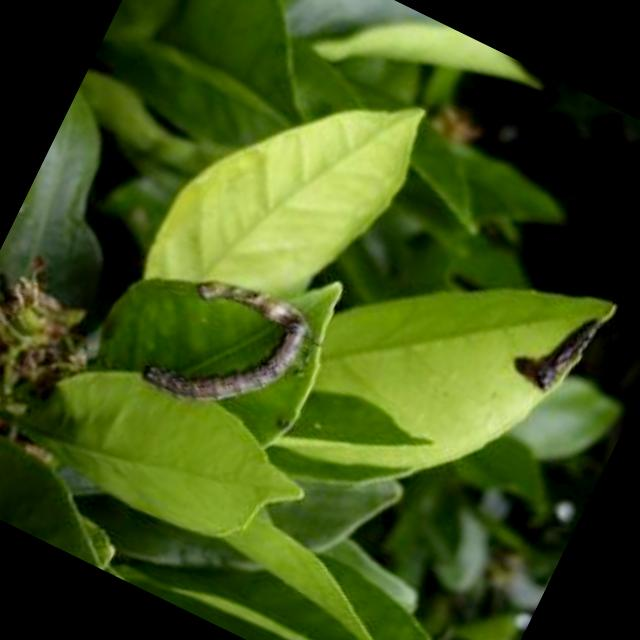Cotton bollworm: (98, 208, 343, 458)
